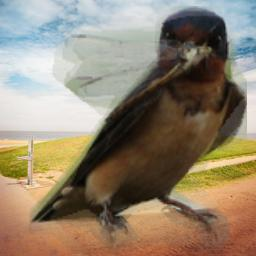Swallow: (29, 6, 247, 254)
